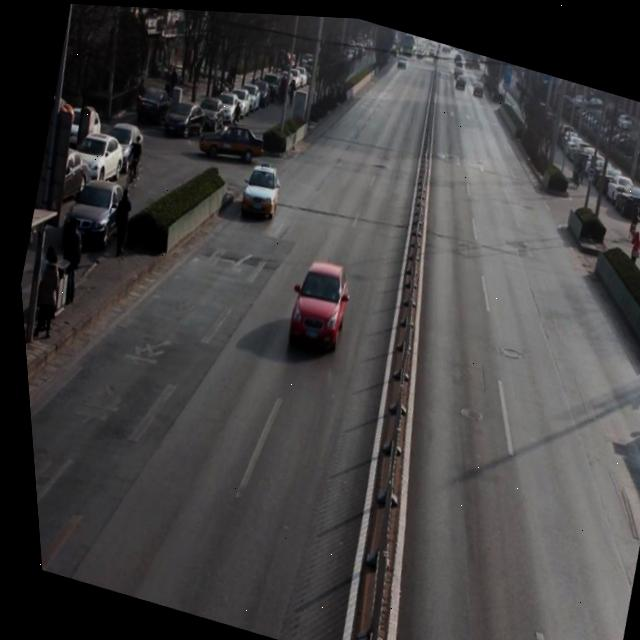car: (274, 247, 354, 357), (232, 154, 286, 227)
